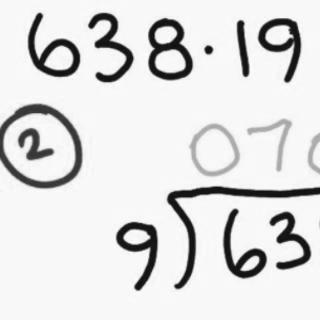.: (202, 40, 215, 61)
0: (183, 119, 242, 177)
1: (232, 14, 252, 80)
3: (85, 5, 136, 87), (265, 209, 313, 270)
6: (22, 7, 85, 83), (217, 199, 268, 285)
7: (243, 119, 295, 178)
8: (140, 14, 195, 83)
9: (110, 213, 162, 294), (253, 13, 304, 87)
